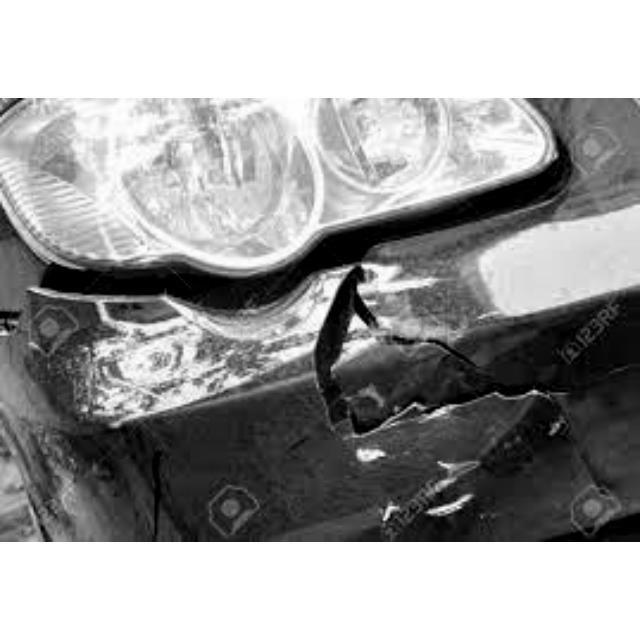front-bumper-dent: (4, 223, 639, 534)
